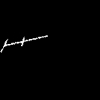double_crochet: (1, 36, 46, 51)
